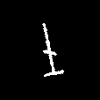double_crochet: (42, 23, 63, 76)
